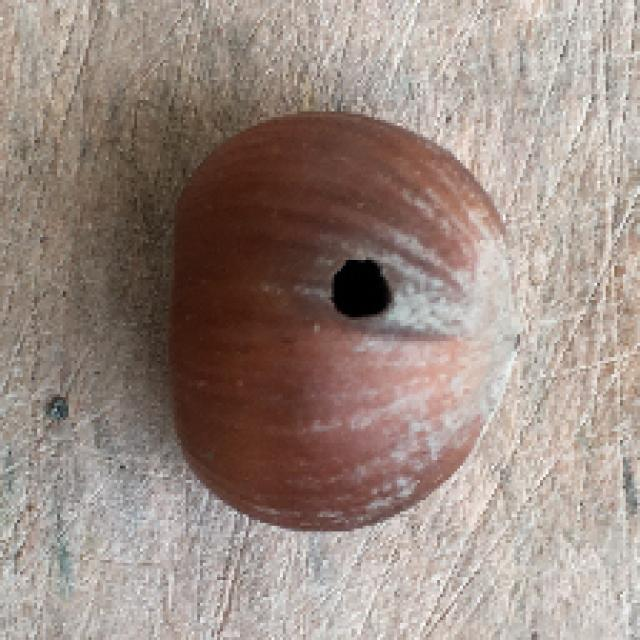damagedHazelnut: (153, 90, 524, 548)
